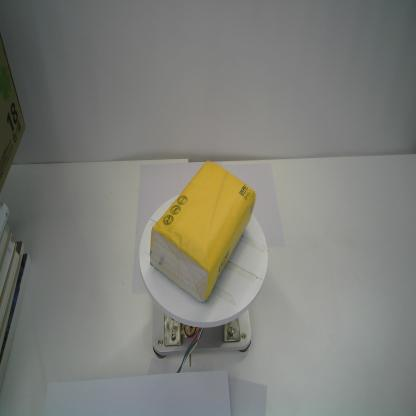Tissue: (149, 161, 257, 305)
